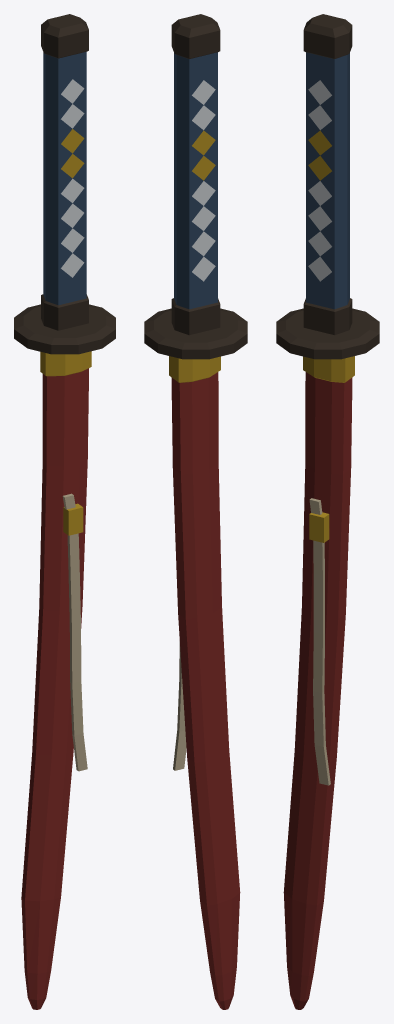
File: katana-in-scabbard-4b6ffb.glb
The picture shows the model from 3 angles, left to right: view 1: azimuth 30°, elevation 25°; view 2: azimuth 210°, elevation 25°; view 3: azimuth 330°, elevation 25°; orthographic projection.
Parts seen in each view (by area): view 1: katana-in-scabbard, sageo-tail; view 2: katana-in-scabbard, sageo-tail; view 3: katana-in-scabbard, sageo-tail.
Boxes of the visible parts, x1,y1,x2,y2 form: katana-in-scabbard: (14, 14, 115, 1009); sageo-tail: (67, 533, 87, 771); katana-in-scabbard: (144, 14, 247, 1009); sageo-tail: (173, 641, 186, 770); katana-in-scabbard: (276, 14, 379, 1009); sageo-tail: (313, 540, 330, 785).
Bounding box in the file's own units: 0.0966 × 1.02 × 0.0966.
